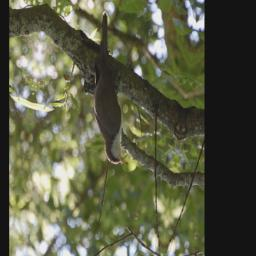Cuckoo: (79, 8, 150, 170)
